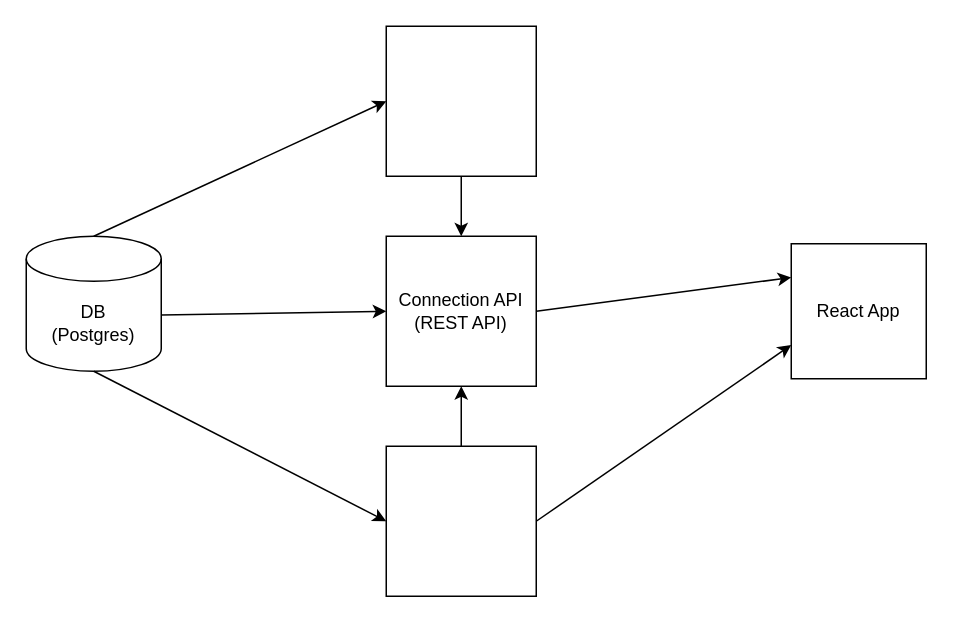
The diagram is 953 pixels wide and 623 high, and some of its shapes have lost their labels. Each missing label, with the centre of its shape:
Location API (gRPC API): (460,100)
Person API (REST API): (460,520)
